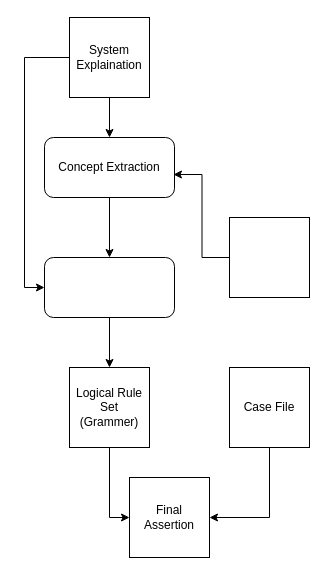
The diagram is 327 pixels wide and 575 high, and some of its shapes have lost their labels. The centre of each missing label's shape, as x and y in pixels:
"LLM - Prompting" belongs at (x=109, y=287).
"Ontology Knowledge Graph (Vocabulary)" belongs at (x=269, y=257).
